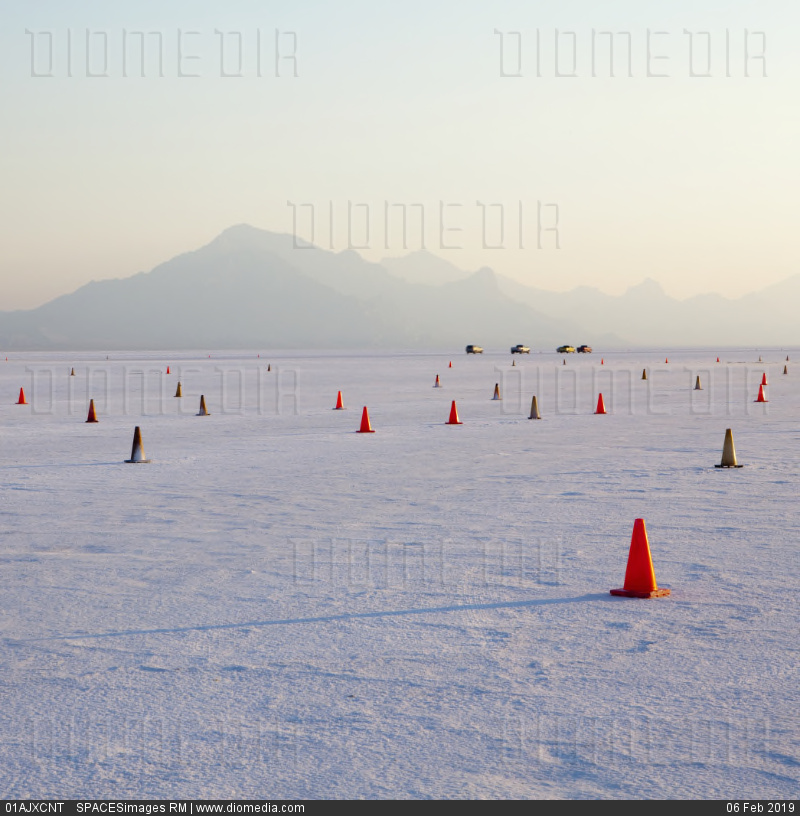cone: (608, 517, 671, 603), (715, 427, 744, 468), (123, 423, 147, 468), (353, 404, 376, 435), (80, 395, 100, 427), (441, 398, 461, 426), (523, 395, 542, 418), (191, 392, 208, 417), (592, 391, 608, 417), (330, 388, 346, 409), (170, 380, 185, 400), (753, 382, 768, 400), (12, 383, 24, 404), (491, 382, 503, 403), (430, 371, 442, 392), (692, 374, 702, 392), (638, 367, 649, 382), (265, 361, 275, 374), (560, 356, 568, 365), (508, 359, 516, 367), (446, 359, 452, 369), (714, 354, 721, 362), (664, 356, 669, 366), (599, 357, 604, 366)
